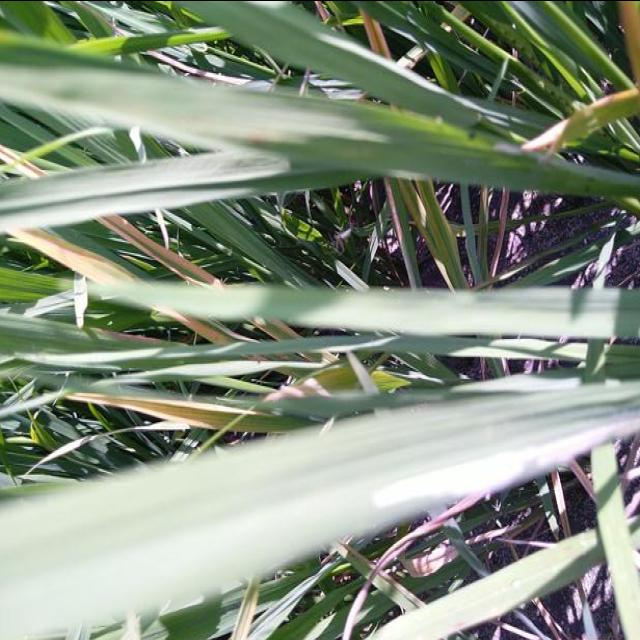Leaf Blight: (100, 217, 223, 288), (399, 179, 463, 283), (68, 392, 241, 429), (16, 229, 111, 283), (267, 355, 365, 399), (527, 104, 601, 150), (162, 308, 231, 342), (620, 0, 640, 100), (0, 142, 47, 177), (365, 14, 393, 54), (258, 319, 302, 338)
